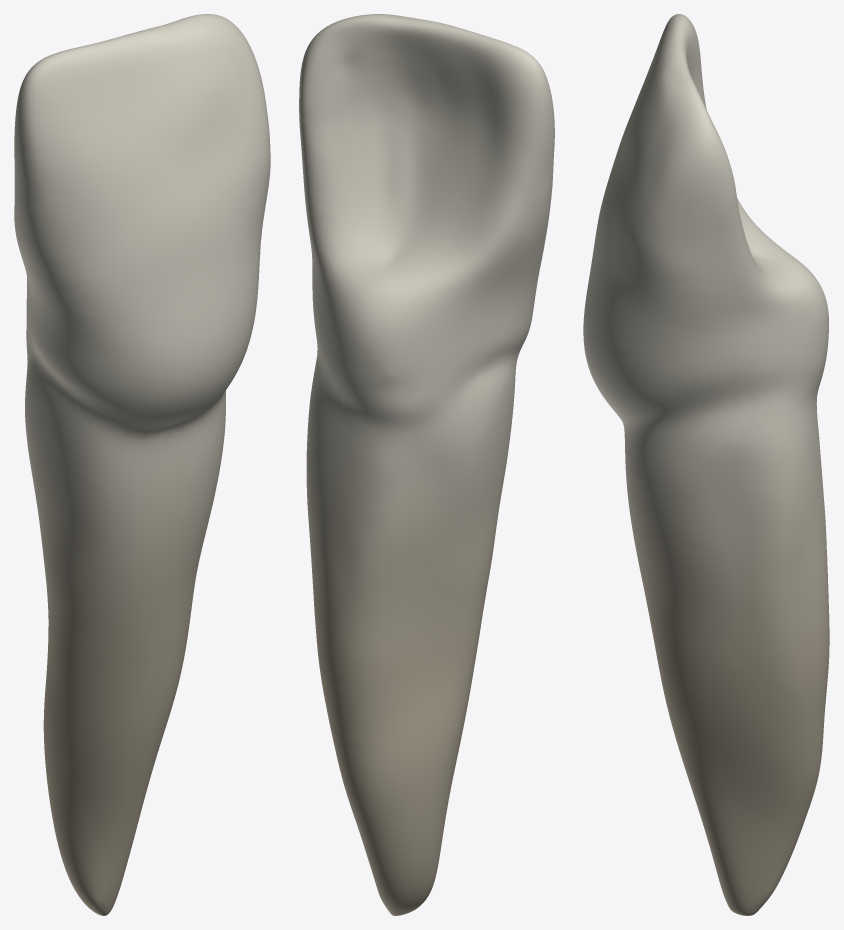
3 views of the same model, side by side, from view 1: azimuth 30°, elevation 25°; view 2: azimuth 150°, elevation 25°; view 3: azimuth 270°, elevation 25° (orthographic). The views are drawn at different scales.
Visible parts, largest first — view 1: Tooth_71_0; view 2: Tooth_71_0; view 3: Tooth_71_0.
Boxes of the visible parts, x1,y1,x2,y2 form: Tooth_71_0: (14,14,270,915); Tooth_71_0: (299,14,554,915); Tooth_71_0: (583,14,829,915).
Bounding box in the file's own units: 0.5 × 1.76 × 0.4543.
